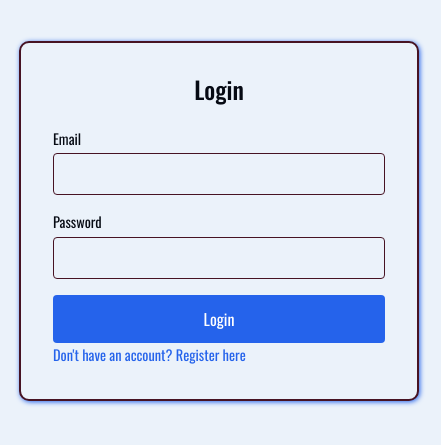
Scenario: LoginForm › clears validation error when user types
The width and height of the screenshot is (441, 445).
Submit the form from the button "Login", box x1=53 y1=295 x2=385 y2=343
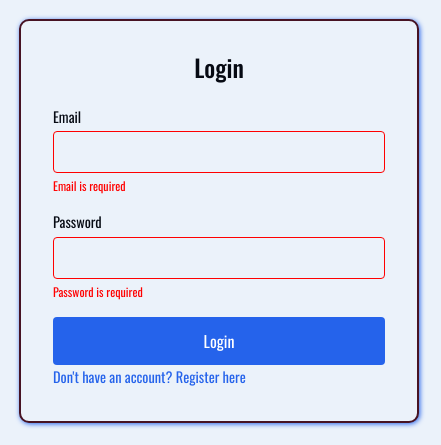
Result: the text "Email is required" is shown at x1=53 y1=177 x2=126 y2=194
Type "test" into the field labelled "Email". click: x=219, y=152
box: x1=53 y1=131 x2=385 y2=173
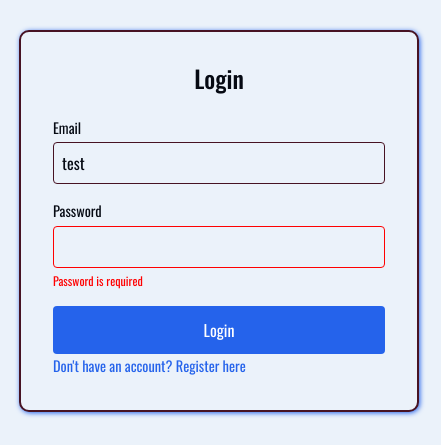
Result: the text "Email is required" is gone
